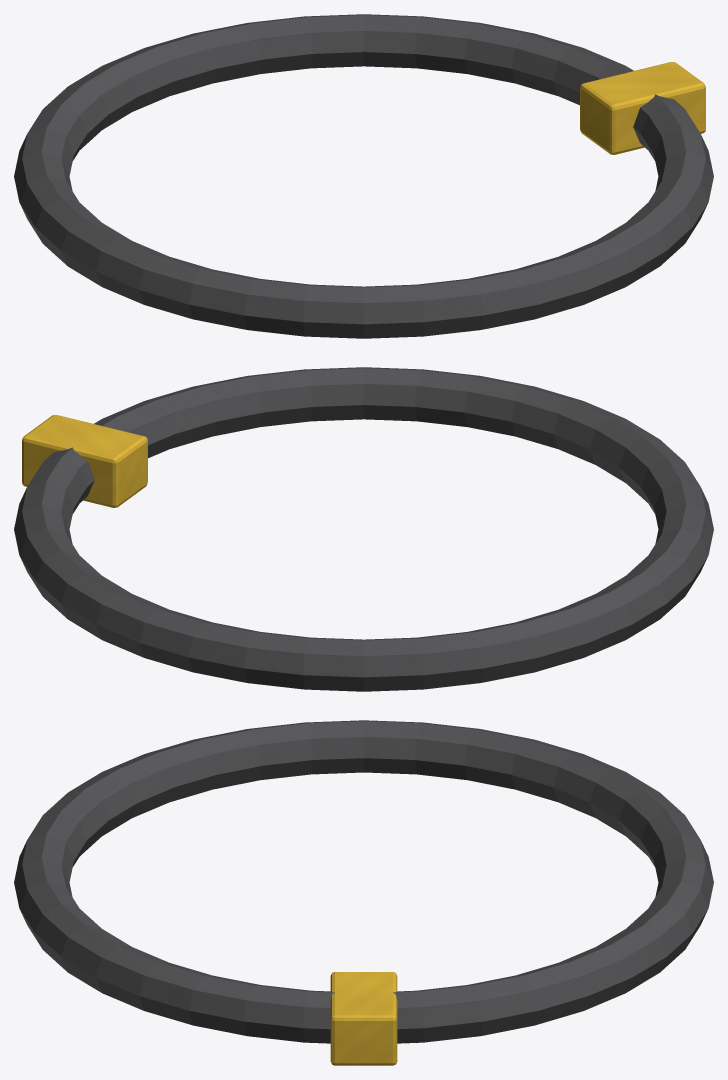
File: service_hose.glb
3 renders of one model, top to bottom at view 1: azimuth 30°, elevation 25°; view 2: azimuth 150°, elevation 25°; view 3: azimuth 270°, elevation 25°, orthographic.
Parts seen in each view (by area): view 1: coiled_hose, connector.036; view 2: coiled_hose, connector.036; view 3: coiled_hose, connector.036.
Part boxes in pixels (x1,y1,x2,y2): coiled_hose: (14,14,713,338); connector.036: (580,62,705,154); coiled_hose: (14,367,713,691); connector.036: (22,415,147,507); coiled_hose: (14,720,713,1043); connector.036: (330,972,397,1065).
Size of the model in its own units: 0.655 by 0.05 by 0.63.
2 materials, 2 textured.
